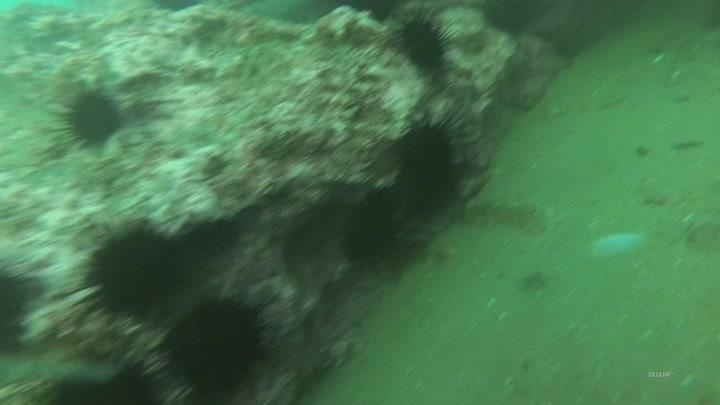echinus: (151, 288, 276, 403), (74, 217, 193, 325), (382, 110, 474, 221), (336, 187, 416, 276), (54, 83, 128, 153), (390, 10, 456, 76), (0, 257, 44, 356), (477, 1, 544, 39)
holothurian: (1, 339, 173, 403), (461, 194, 549, 236)
